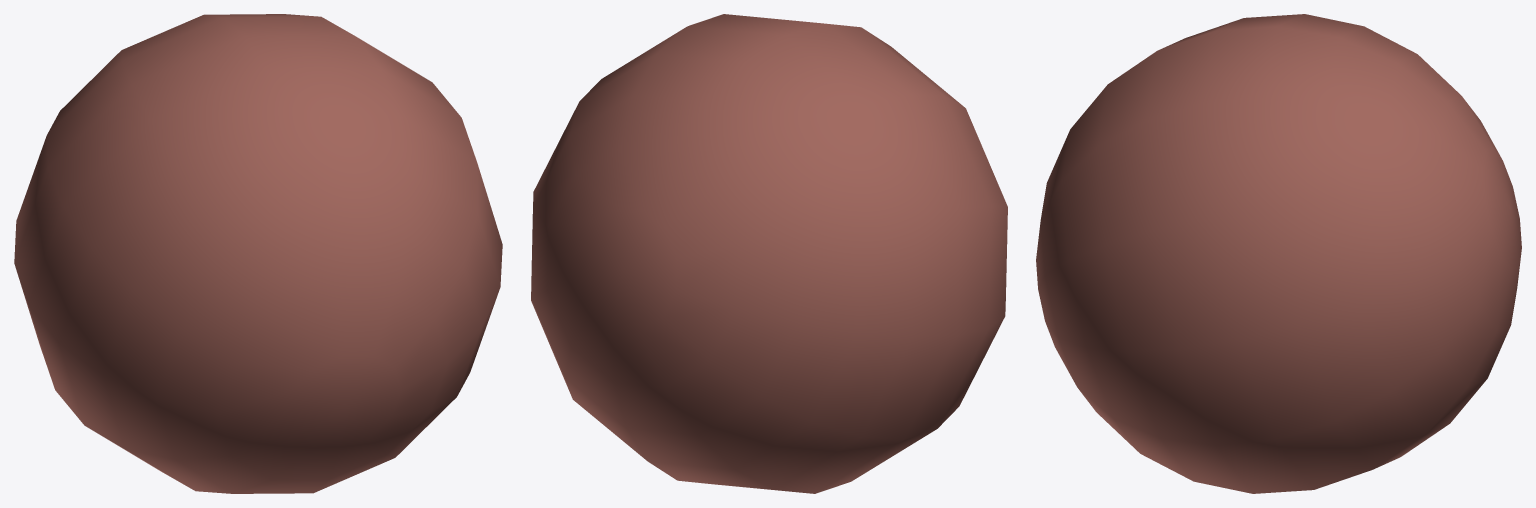
Rendered from mixamo_humanoid_joint_rightHandPinky1.fbx.
3 renders of one model, left to right at view 1: azimuth 30°, elevation 25°; view 2: azimuth 150°, elevation 25°; view 3: azimuth 270°, elevation 25°, orthographic.
Visible parts, largest first — view 1: joint_RightHandPinky1; view 2: joint_RightHandPinky1; view 3: joint_RightHandPinky1.
Part boxes in pixels (x1,y1,x2,y2): joint_RightHandPinky1: (14,14,502,493); joint_RightHandPinky1: (531,14,1007,493); joint_RightHandPinky1: (1036,14,1521,493).
Size of the model in its own units: 2.44 by 2.46 by 2.47.
